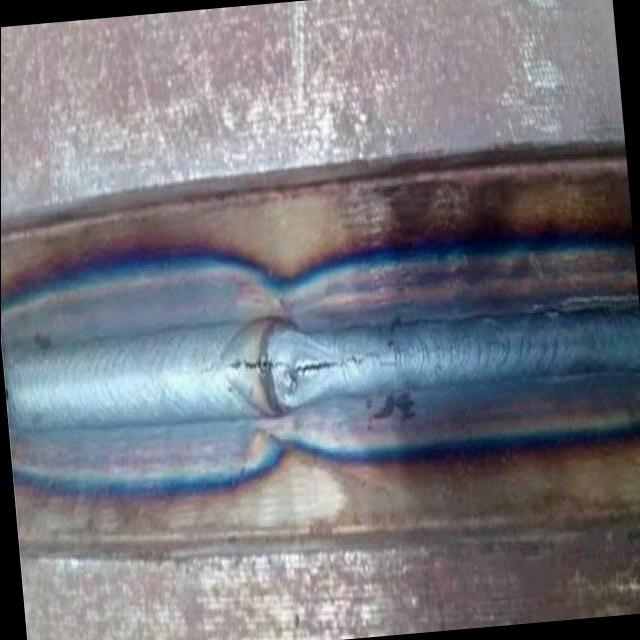defect: (225, 336, 409, 378)
